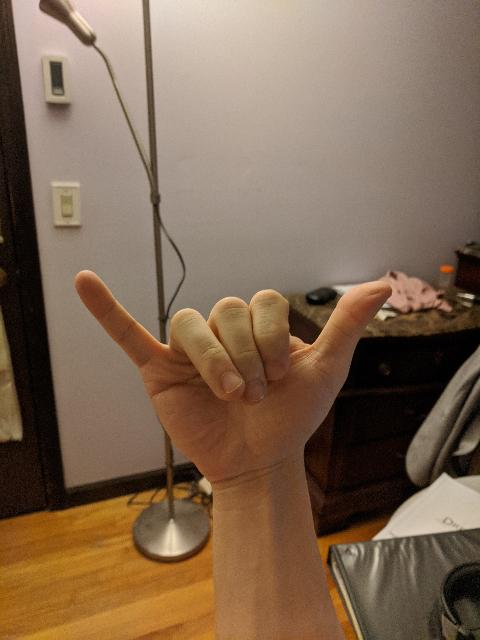Y: (71, 264, 397, 483)
